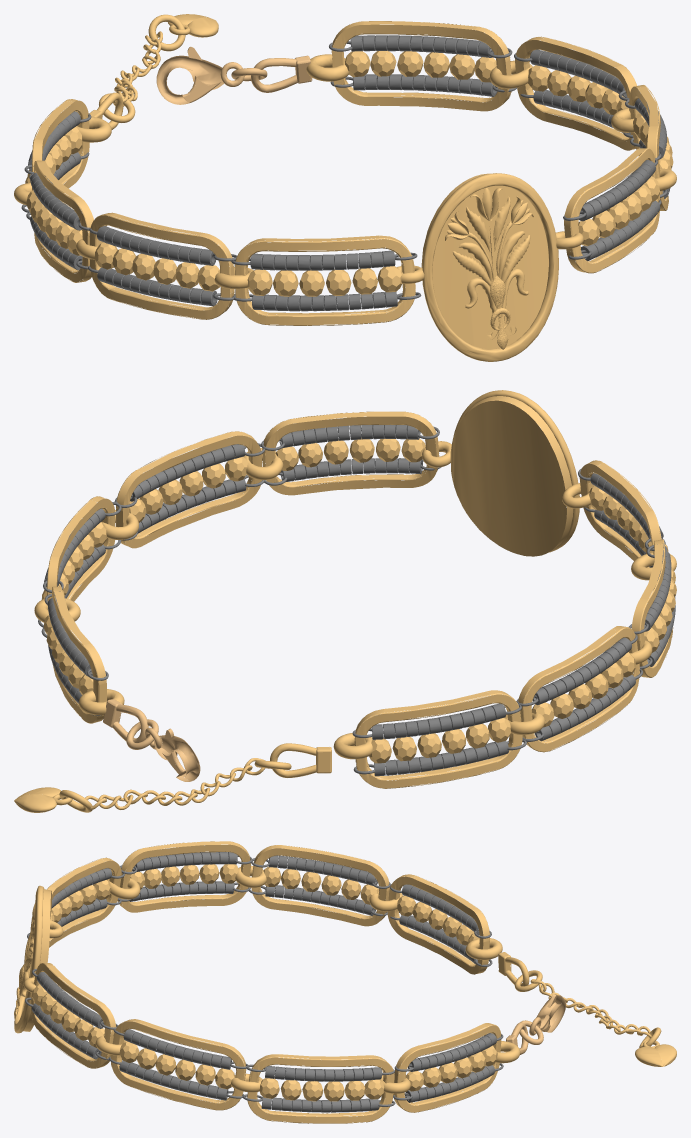
File: haoma-bracelet_compressed.glb
3 renders of one model, top to bottom at view 1: azimuth 30°, elevation 25°; view 2: azimuth 150°, elevation 25°; view 3: azimuth 270°, elevation 25°, orthographic. The views are drawn at different scales.
Visible parts, largest first — view 1: Mesh_0.004; view 2: Mesh_0.004; view 3: Mesh_0.004.
Boxes of the visible parts, box(x1,y1,x2,y2) form: Mesh_0.004: box(14, 14, 676, 361); Mesh_0.004: box(14, 390, 676, 812); Mesh_0.004: box(14, 841, 676, 1123).
Bounding box in the file's own units: 67.11 × 19.63 × 85.31.
